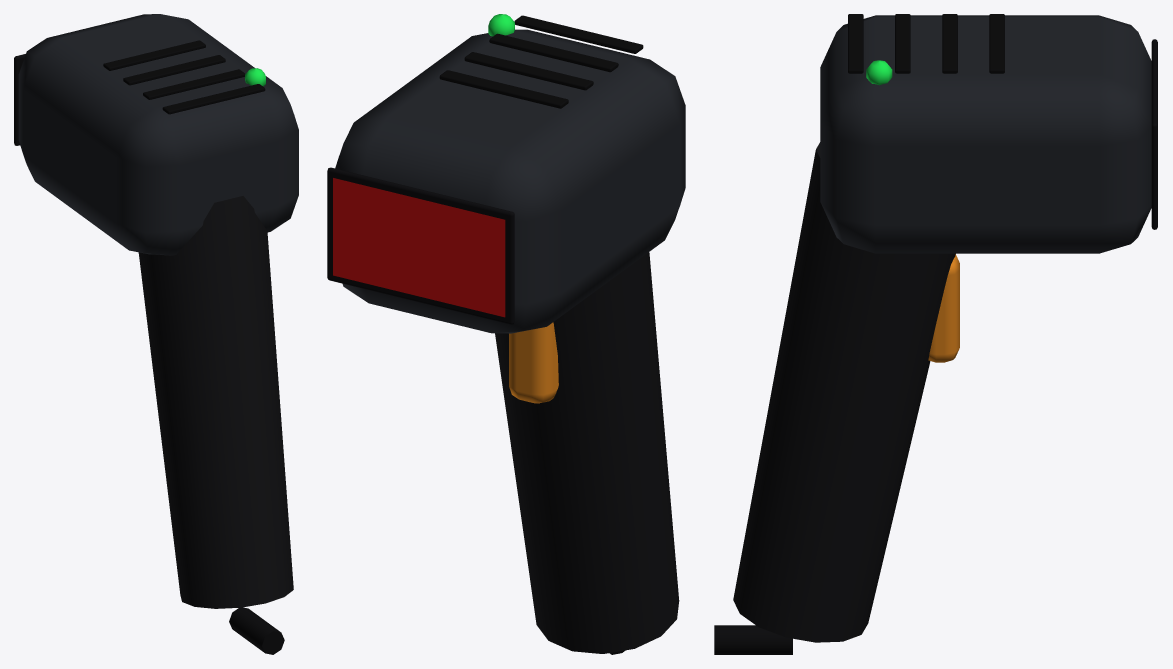
File: ShopScanner.obj
3 views of the same model, side by side, from view 1: azimuth 30°, elevation 25°; view 2: azimuth 150°, elevation 25°; view 3: azimuth 270°, elevation 25° (orthographic). The views are drawn at different scales.
Bounding box in the file's own units: 0.062 × 0.175 × 0.1131.
